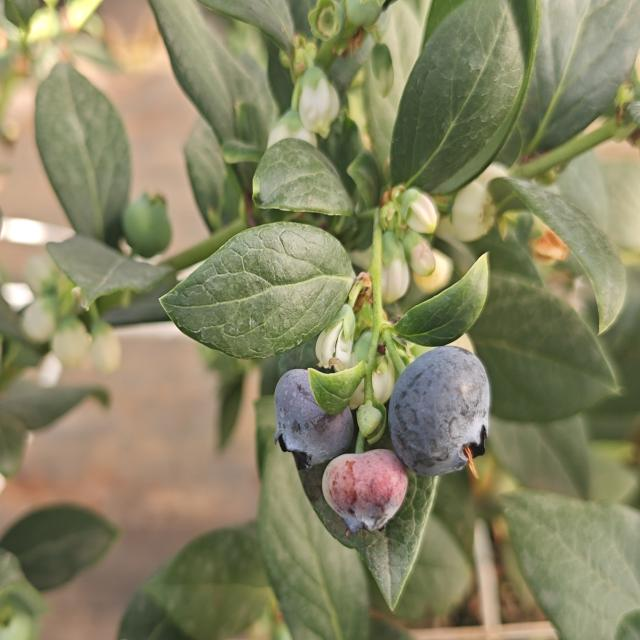ripe: (386, 344, 492, 481), (271, 366, 355, 472)
